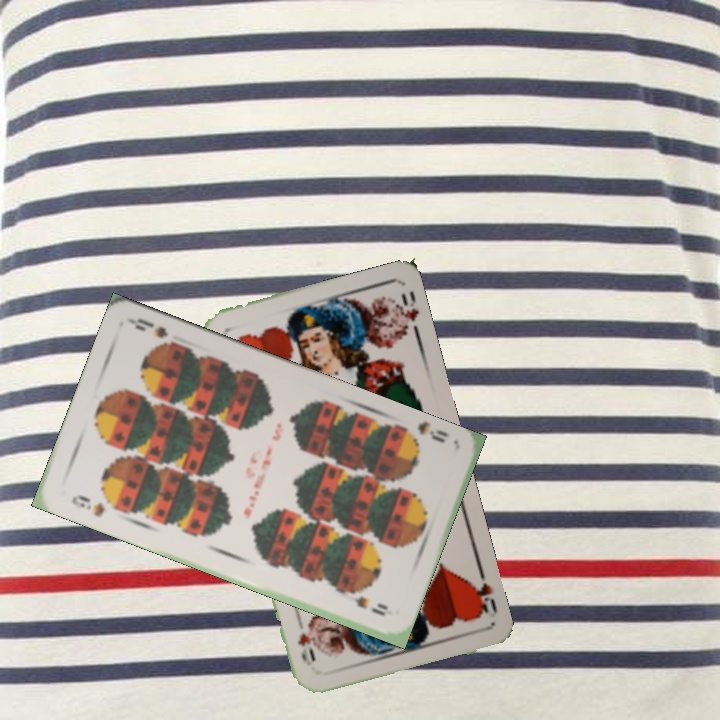HO: (466, 564, 500, 621)
S9: (67, 490, 107, 520), (413, 418, 451, 446)
